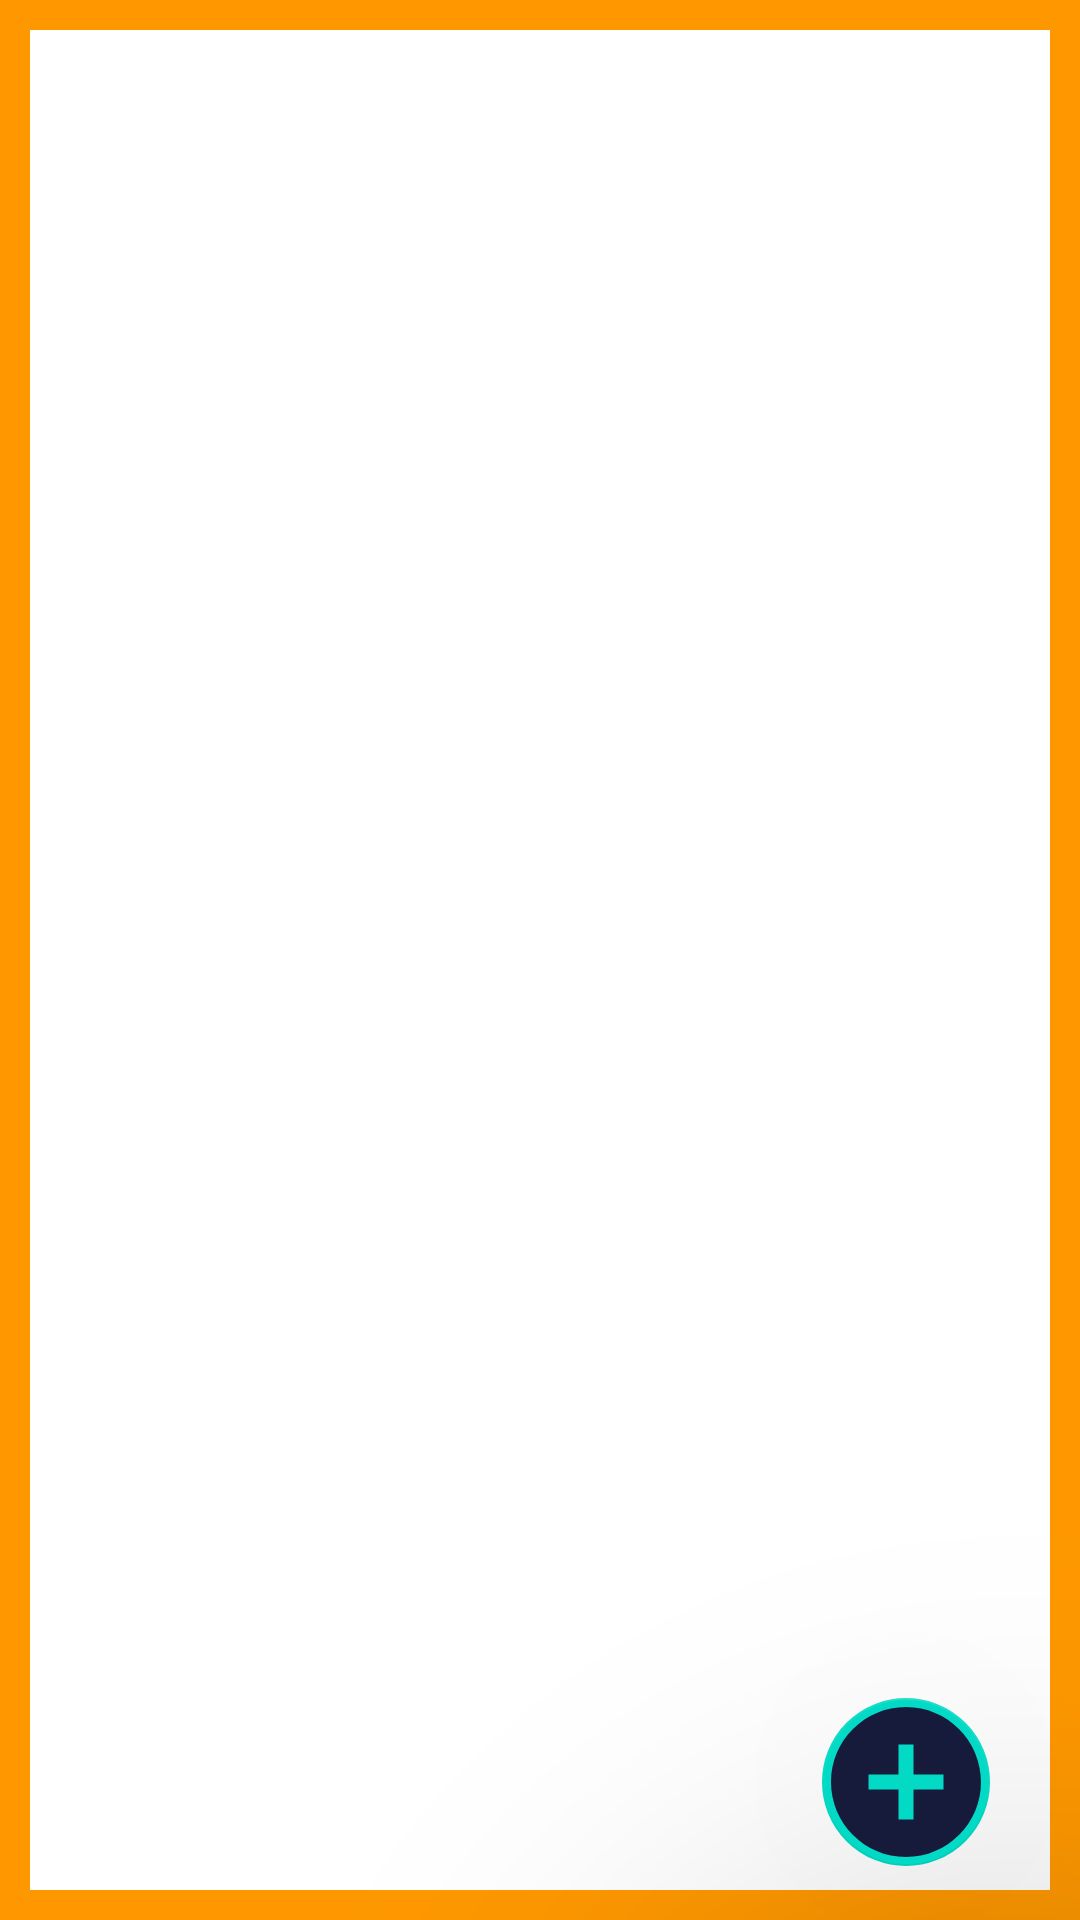

Icon bounding boxes for this 1080w x 1920h phone screenshot, format (x1,y1,x2,y2):
add circle: (822,1698,990,1866)
